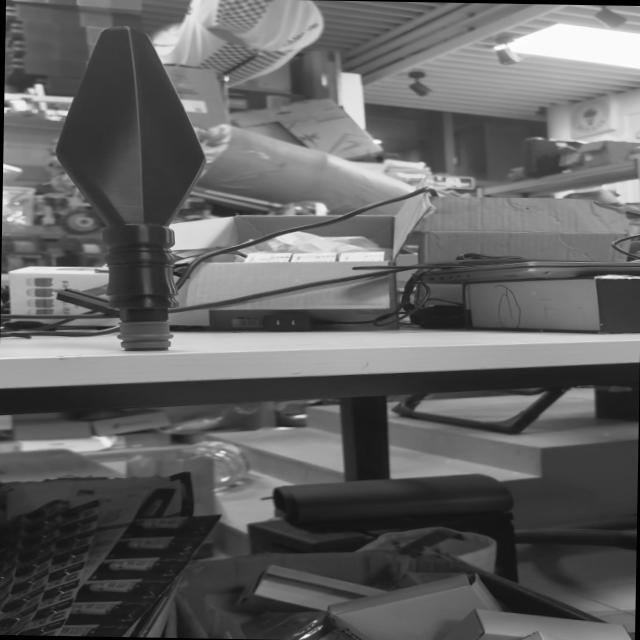base: (108, 316, 184, 356)
